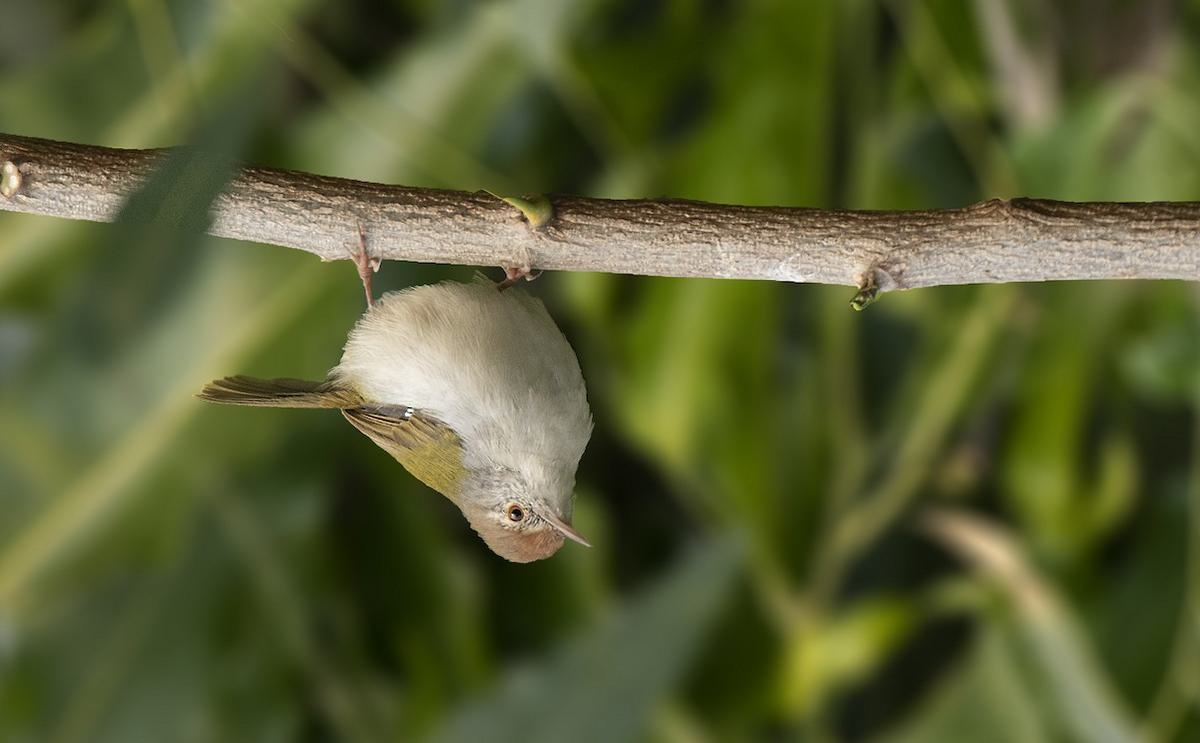tailorbird: (208, 211, 629, 608)
